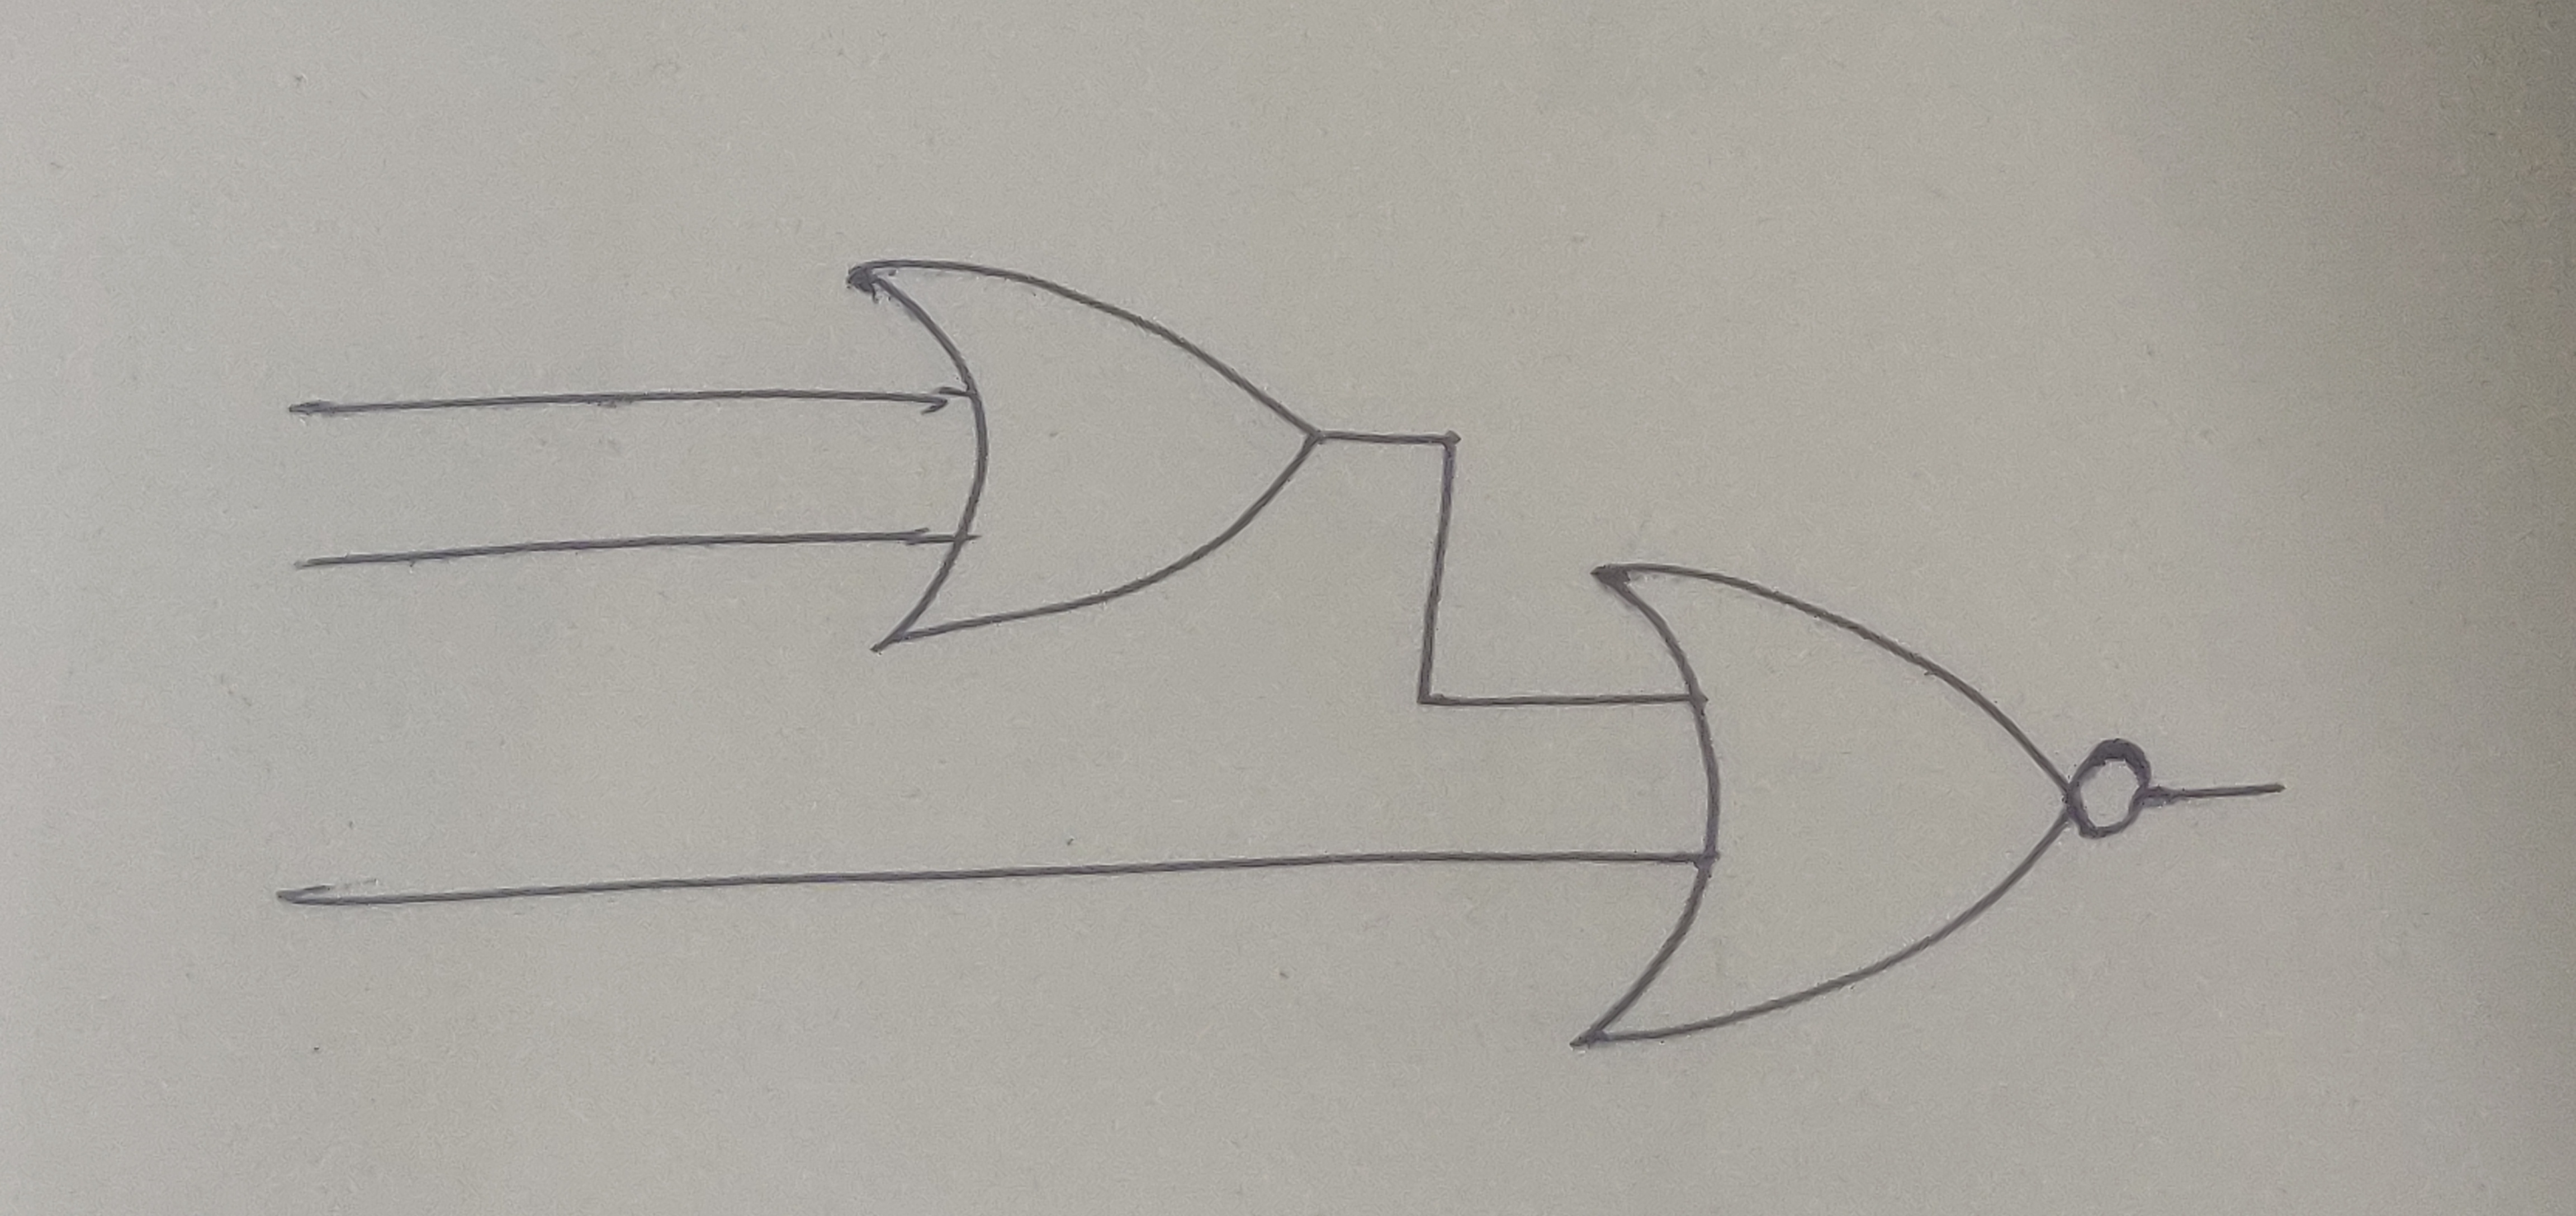not: (2067, 733, 2155, 845)
or: (1574, 552, 2080, 1065), (835, 256, 1327, 654)
